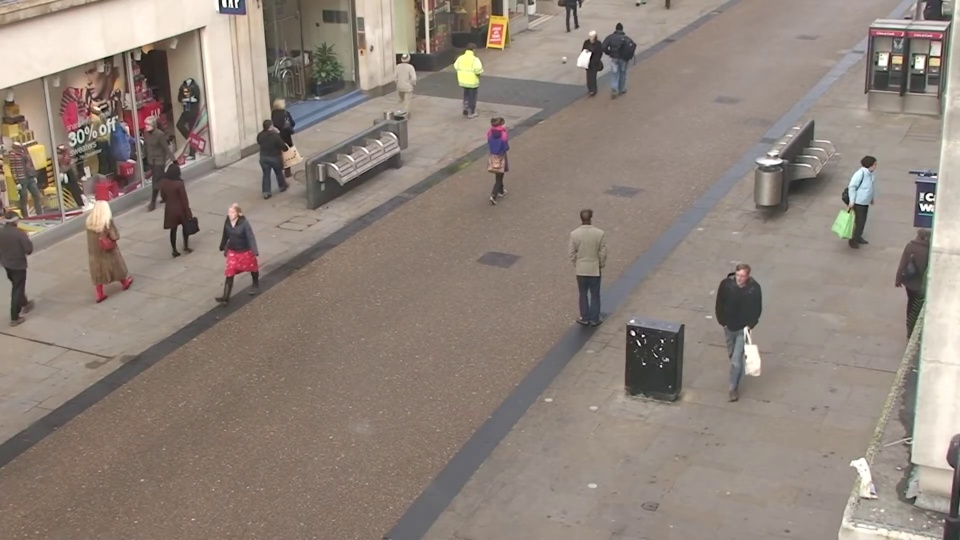pedestrian: (0, 202, 59, 319), (893, 215, 947, 340), (714, 262, 761, 397), (93, 190, 142, 303), (205, 203, 251, 320), (565, 202, 603, 322), (846, 151, 889, 257), (165, 157, 207, 262), (127, 117, 168, 211), (260, 112, 296, 205), (486, 106, 517, 200), (272, 93, 305, 181), (396, 49, 424, 125), (463, 38, 489, 112), (578, 30, 602, 102), (609, 15, 632, 83)
